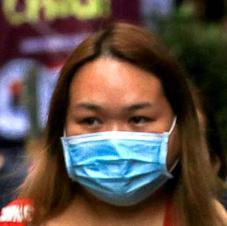OK: (65, 84, 177, 210)
